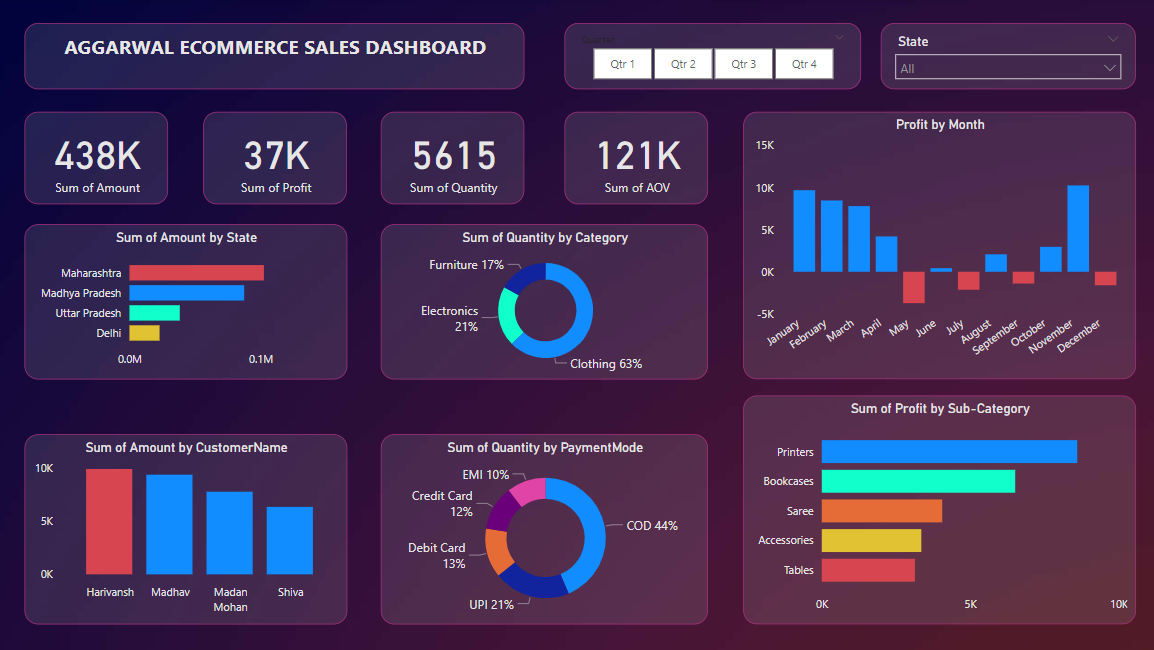

Layout of this report page (visuals, bound fields, positions):
{"tool":"powerbi","page":{"name":"Page 1","canvas":[1280,720],"ordinal":0},"visuals":[{"type":"textbox","box":[30.2,27.4,548.9,72.7],"z":0},{"type":"columnChart","title":"Profit by Month","fields":{"Y":["Sum(Details.Profit)"],"Category":["Orders.Order Date.Variation.Date Hierarchy.Month"]},"box":[819.2,124.9,430.9,293.7],"z":1000},{"type":"barChart","fields":{"Category":["Details.Sub-Category"],"Y":["Sum(Details.Profit)"]},"box":[819.2,436.4,430.9,251.1],"z":2000},{"type":"donutChart","fields":{"Category":["Details.Category"],"Y":["Sum(Details.Quantity)"]},"box":[421.3,248.4,359.5,170.2],"z":3000},{"type":"donutChart","fields":{"Y":["Sum(Details.Quantity)"],"Category":["Details.PaymentMode"]},"box":[421.3,478.9,359.5,208.6],"z":4000},{"type":"card","fields":{"Values":["Sum(Details.Amount)"]},"box":[30.2,124.9,157.8,101.5],"z":5000},{"type":"card","fields":{"Values":["Sum(Details.Profit)"]},"box":[226.4,124.9,157.8,101.5],"z":6000},{"type":"card","fields":{"Values":["Sum(Details.Quantity)"]},"box":[421.3,124.9,157.8,101.5],"z":7000},{"type":"card","fields":{"Values":["Sum(Details.AOV)"]},"box":[623,124.9,157.8,101.5],"z":8000},{"type":"barChart","fields":{"Category":["Orders.State"],"Y":["Sum(Details.Amount)"]},"box":[30.2,248.4,354,170.2],"z":9000},{"type":"columnChart","fields":{"Category":["Orders.CustomerName"],"Y":["Sum(Details.Amount)"]},"box":[30.2,478.9,354,208.6],"z":10000},{"type":"slicer","fields":{"Values":["Orders.Order Date.Variation.Date Hierarchy.Quarter"]},"box":[623,27.4,325.2,72.7],"z":11000},{"type":"slicer","fields":{"Values":["Orders.State"]},"box":[970.2,27.4,279.9,72.7],"z":12000}]}

Visuals, with their boxes in screenshot pixels (x1, y1, x2, y2), scaled from the page's 1280x720 canvas onto the 1154x650 screenshot:
textbox: (27,25,522,90)
"Profit by Month" columnChart: (739,113,1127,378)
barChart - Details.Sub-Category x Sum(Details.Profit): (739,394,1127,621)
donutChart - Details.Category x Sum(Details.Quantity): (380,224,704,378)
donutChart - Sum(Details.Quantity) x Details.PaymentMode: (380,432,704,621)
card - Sum(Details.Amount): (27,113,169,204)
card - Sum(Details.Profit): (204,113,346,204)
card - Sum(Details.Quantity): (380,113,522,204)
card - Sum(Details.AOV): (562,113,704,204)
barChart - Orders.State x Sum(Details.Amount): (27,224,346,378)
columnChart - Orders.CustomerName x Sum(Details.Amount): (27,432,346,621)
slicer - Orders.Order Date.Variation.Date Hierarchy.Quarter: (562,25,855,90)
slicer - Orders.State: (875,25,1127,90)
